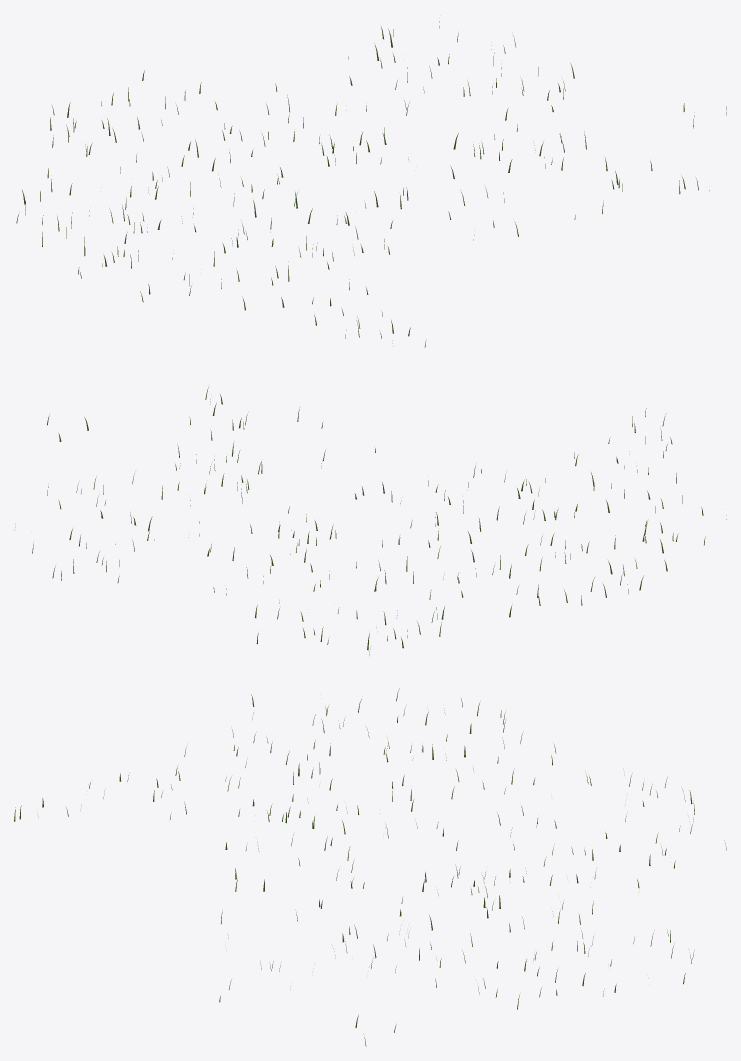
The picture shows the model from 3 angles, top to bottom: view 1: azimuth 30°, elevation 25°; view 2: azimuth 150°, elevation 25°; view 3: azimuth 270°, elevation 25°; orthographic projection. The views are drawn at different scales.
Visible parts, largest first — view 1: GrassPatch; view 2: GrassPatch; view 3: GrassPatch.
Part boxes in pixels (x1,y1,x2,y2): GrassPatch: (16,21,726,347); GrassPatch: (14,387,726,655); GrassPatch: (14,688,726,1046).
Bounding box in the file's own units: 18.67 × 0.9926 × 17.17.
